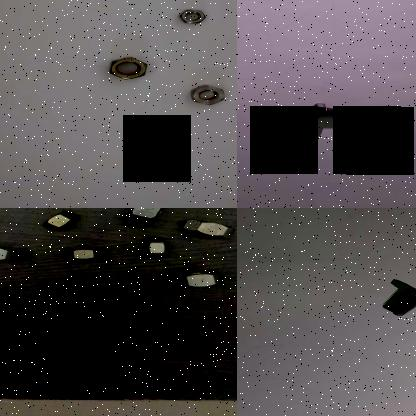Bolts: (304, 102, 360, 124), (388, 290, 416, 317)
NUTS: (178, 218, 235, 247), (164, 262, 221, 291), (105, 56, 150, 82), (42, 208, 82, 236), (0, 242, 33, 274), (188, 83, 228, 107), (122, 208, 174, 226), (58, 246, 102, 264), (138, 236, 170, 260), (174, 6, 206, 28)
